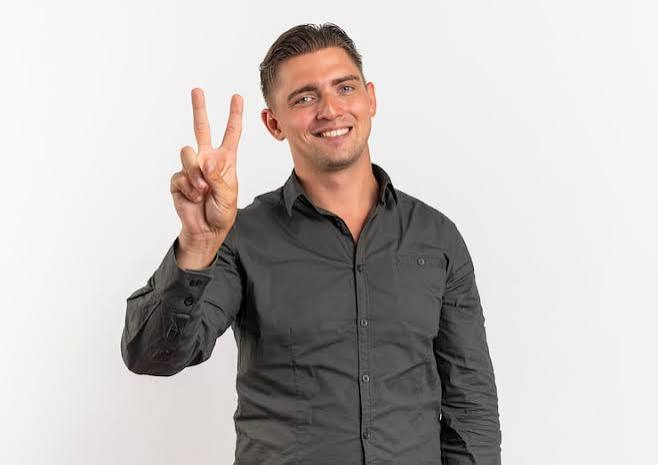peace_sign: (162, 85, 258, 233)
